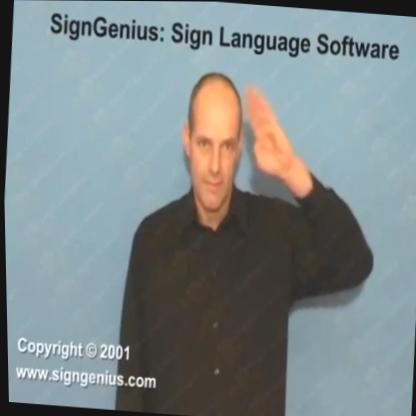Hello: (175, 71, 309, 242)
